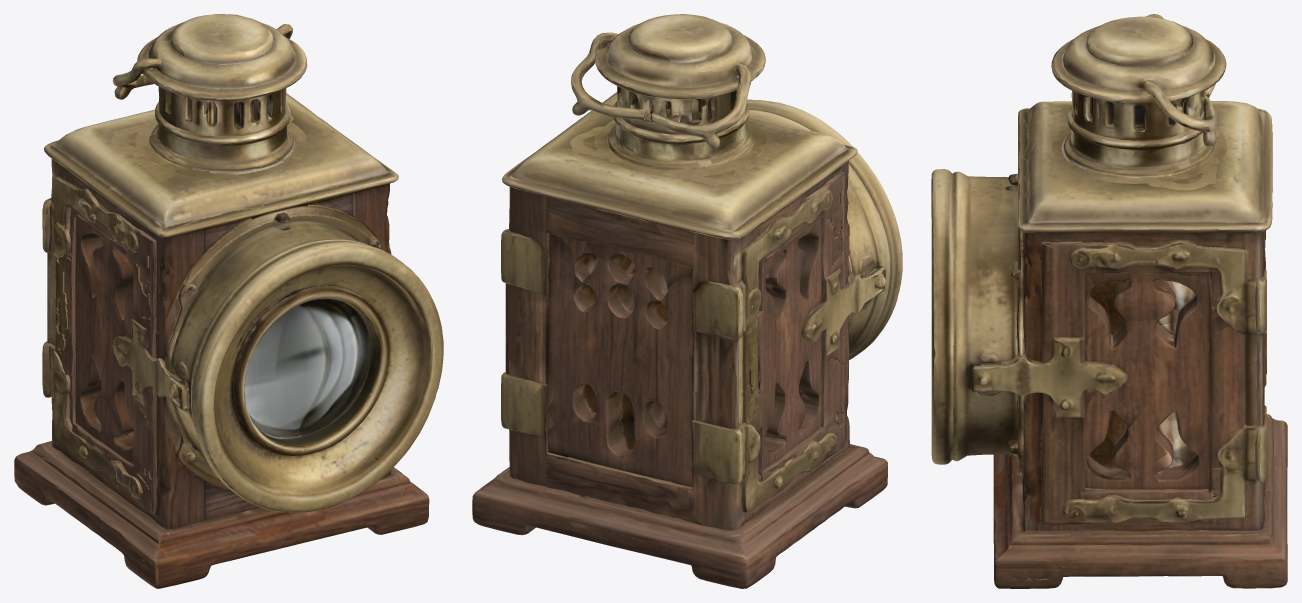
The model's file is aholo-g1-lantern.glb.
3 renders of one model, left to right at view 1: azimuth 30°, elevation 25°; view 2: azimuth 150°, elevation 25°; view 3: azimuth 270°, elevation 25°, orthographic. The views are drawn at different scales.
Parts seen in each view (by area): view 1: geometry_0; view 2: geometry_0; view 3: geometry_0.
Boxes of the visible parts, x1,y1,x2,y2 form: geometry_0: (14,14,443,588); geometry_0: (472,14,902,588); geometry_0: (931,14,1287,588).
Bounding box in the file's own units: 0.2128 × 0.35 × 0.232.
1 material, 1 textured.
